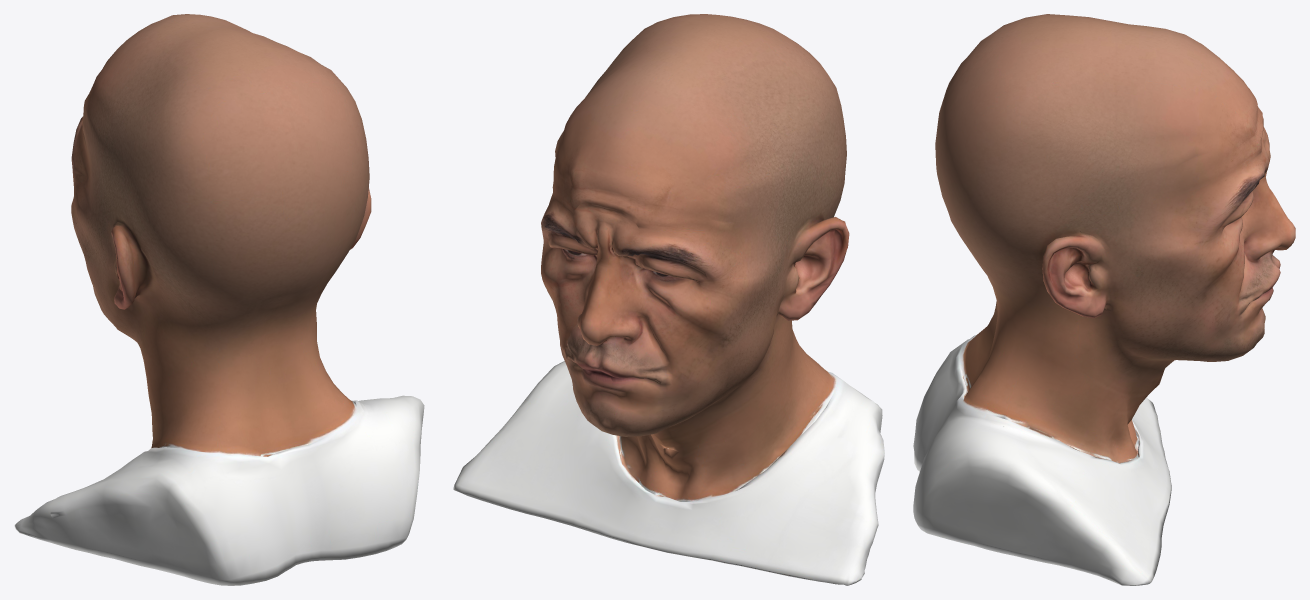
Rendered from Model_HairHead_Luo.glb.
3 views of the same model, side by side, from view 1: azimuth 30°, elevation 25°; view 2: azimuth 150°, elevation 25°; view 3: azimuth 270°, elevation 25° (orthographic). The views are drawn at different scales.
Parts seen in each view (by area): view 1: HairHead_Luo; view 2: HairHead_Luo; view 3: HairHead_Luo.
Boxes of the visible parts, x1,y1,x2,y2 form: HairHead_Luo: (14,14,424,585); HairHead_Luo: (453,14,884,585); HairHead_Luo: (913,14,1295,585).
Size of the model in its own units: 0.2868 by 0.3278 by 0.247.
Materials: 1 (1 with a texture image).
